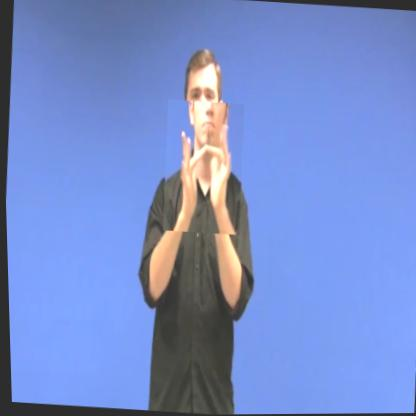Internet: (158, 100, 247, 236)
